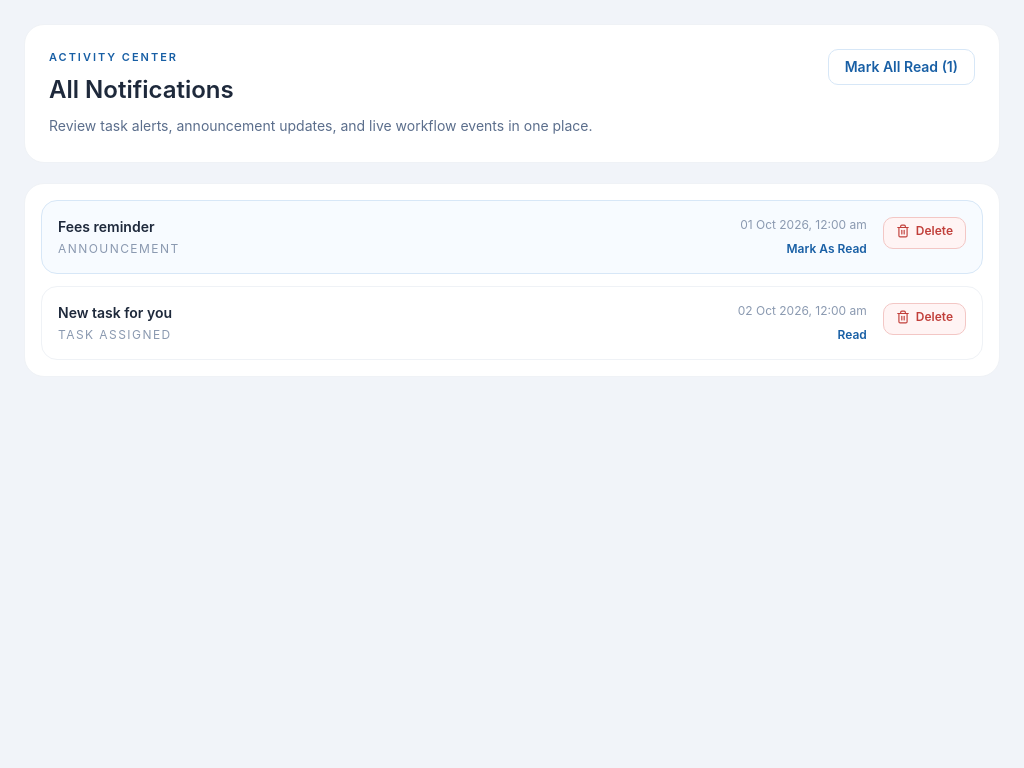
Test case: Notifications delete › keeps the row and shows the error on failure
This screenshot has width=1024, height=768.
Expected: the text "Fees reminder" is shown, x1=58 y1=218 x2=154 y2=234
Click the button with aria-label "Delete notification".
click(924, 232)  # box x1=883 y1=216 x2=966 y2=248
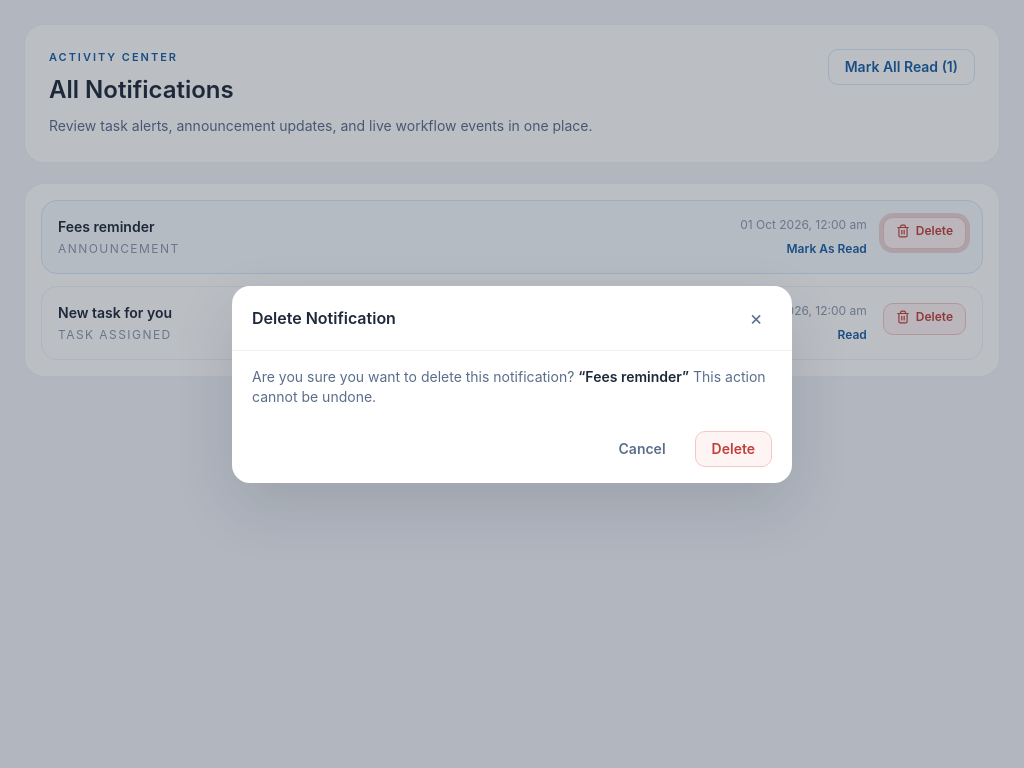
Click the button "Delete".
click(733, 448)  # box x1=695 y1=430 x2=772 y2=466
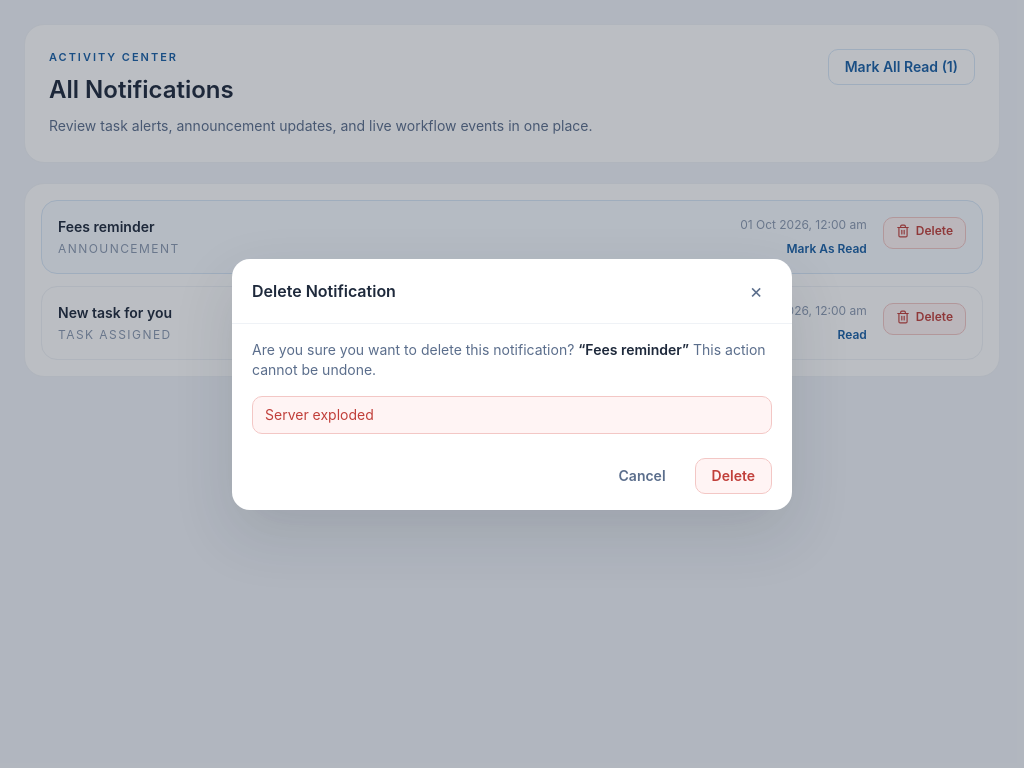
Expected: the text "Fees reminder" is shown, x1=58 y1=218 x2=154 y2=234
Now the message reads "Server exploded", box x1=265 y1=406 x2=374 y2=422
